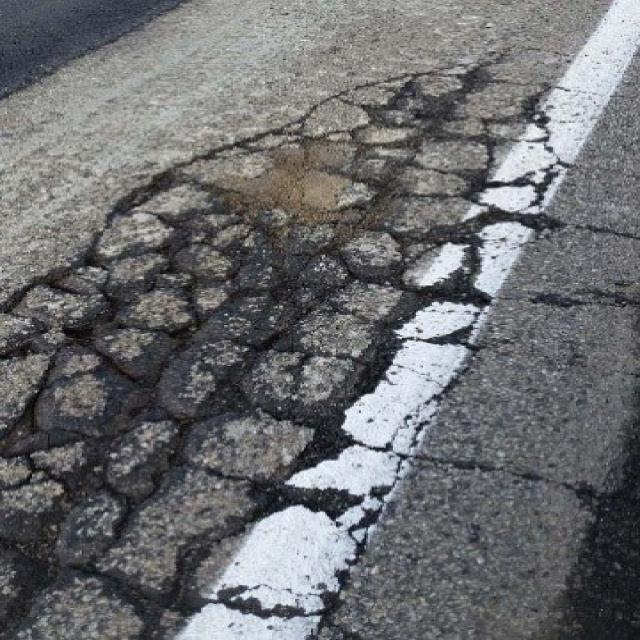Drain Hole: (140, 278, 418, 453)
Pothole: (59, 0, 640, 640)
